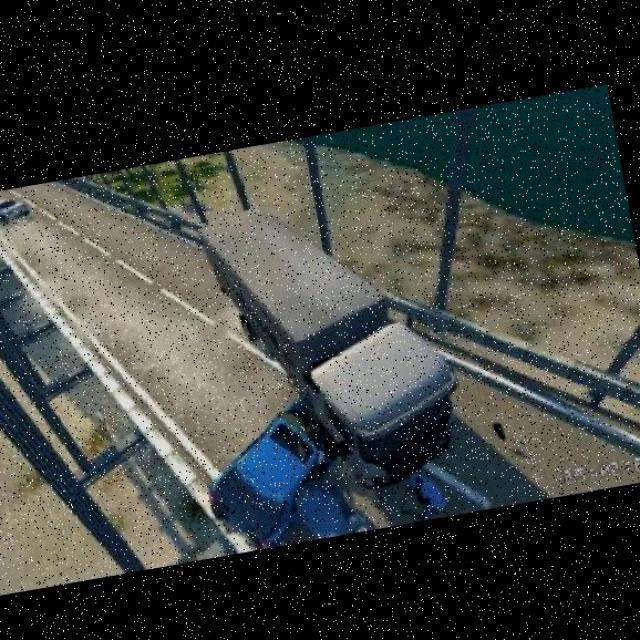accident: (166, 310, 486, 557)
